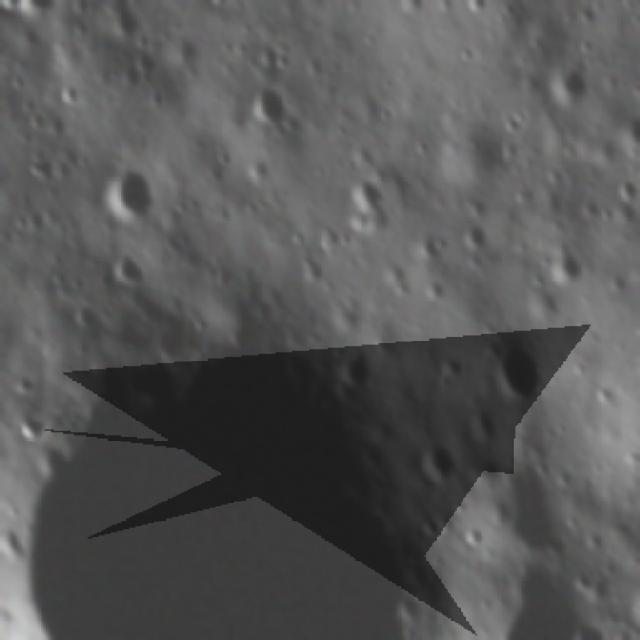crater: (0, 307, 420, 640), (474, 560, 578, 640), (438, 113, 513, 198), (483, 332, 551, 414), (97, 158, 165, 228), (341, 169, 397, 231), (459, 396, 512, 453), (242, 75, 296, 130), (547, 56, 595, 112), (411, 430, 457, 487), (99, 0, 152, 46), (518, 280, 564, 328), (335, 344, 377, 394), (252, 32, 294, 80), (604, 108, 640, 163), (8, 401, 50, 444), (548, 242, 583, 290), (112, 247, 150, 291), (414, 225, 452, 268), (458, 215, 496, 258), (378, 252, 416, 294), (567, 564, 605, 602), (28, 437, 67, 474), (245, 150, 278, 193), (430, 348, 467, 386), (412, 506, 446, 545), (119, 52, 147, 96), (464, 520, 494, 554), (62, 78, 88, 113), (19, 0, 64, 20), (570, 617, 608, 640), (16, 367, 42, 398), (71, 303, 97, 332), (614, 180, 640, 208), (629, 577, 640, 640), (27, 106, 47, 137), (463, 0, 492, 20), (202, 0, 232, 17), (288, 226, 307, 252), (0, 0, 23, 14), (164, 0, 199, 6), (381, 0, 417, 3)
